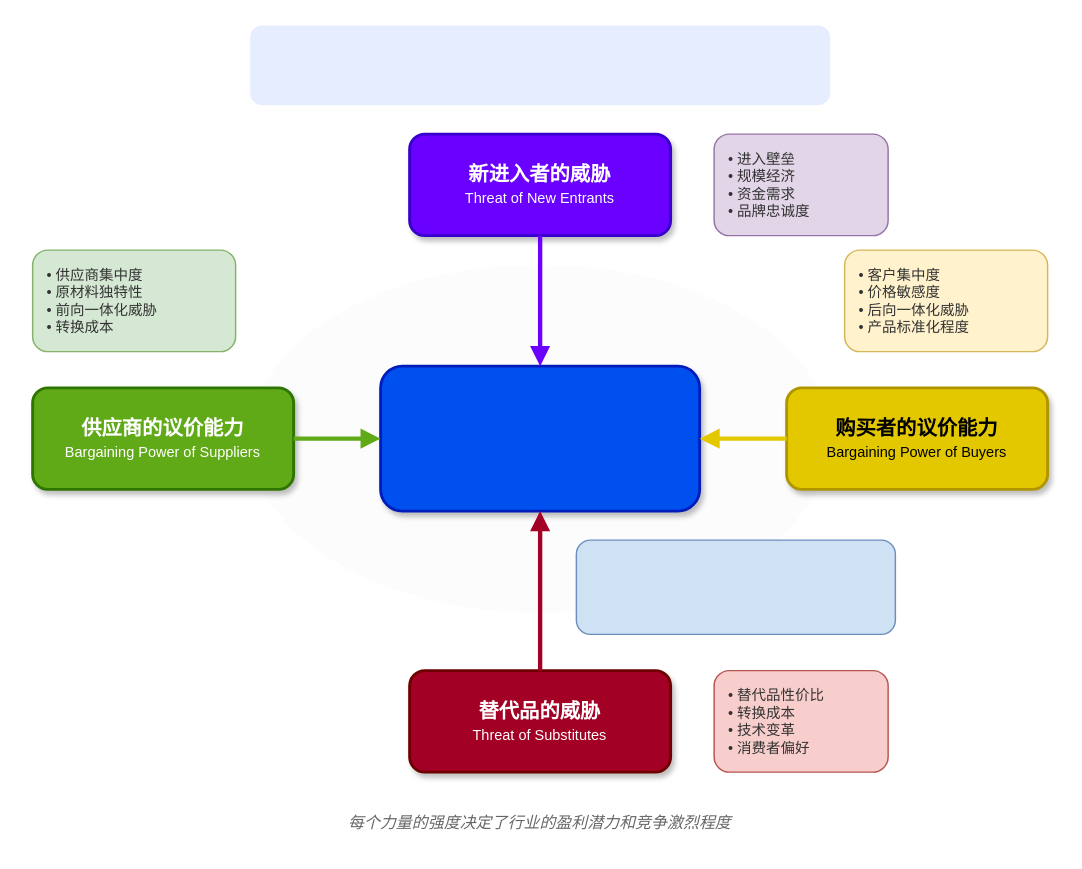
Some shapes in this 1082 by 869 pixel diagram are drawn without their labels. Here are the shapes that lost their labels. From the top down, the centre of each, then its label:
At pixel 539 64: "波特五力分析模型 Porter's Five Forces Analysis".
At pixel 541 440: "行业内竞争 Competitive Rivalry".
At pixel 735 586: "• 竞争者数量 • 市场增长率 • 产品差异化 • 退出壁垒".
